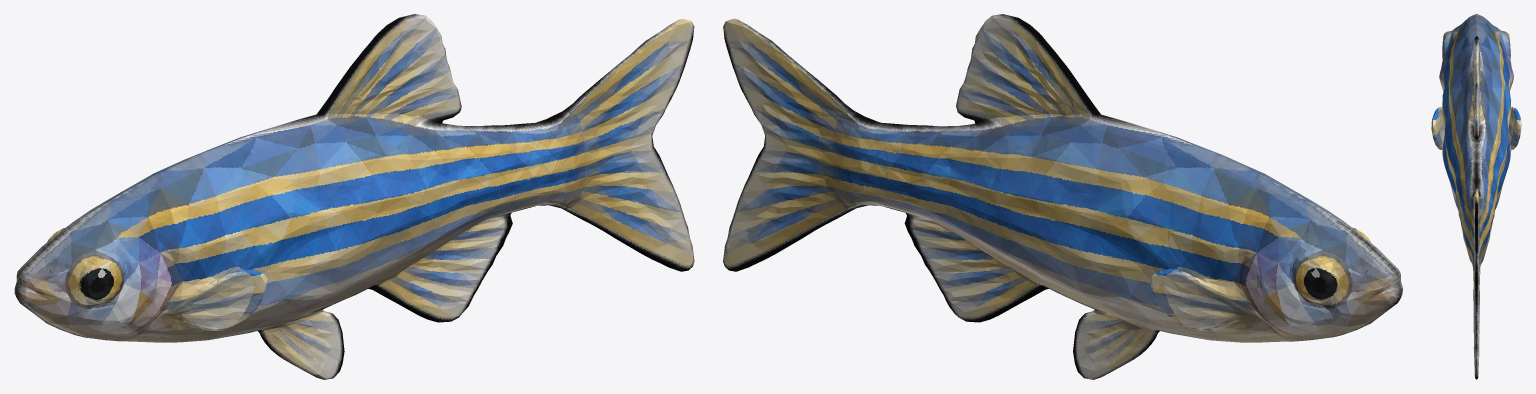
Rendered from zebrafish.glb.
3 renders of one model, left to right at view 1: azimuth 30°, elevation 25°; view 2: azimuth 150°, elevation 25°; view 3: azimuth 270°, elevation 25°, orthographic. The views are drawn at different scales.
Visible parts, largest first — view 1: zebrafish; view 2: zebrafish; view 3: zebrafish.
Part boxes in pixels (x1,y1,x2,y2): zebrafish: [14, 14, 694, 379]; zebrafish: [723, 14, 1402, 379]; zebrafish: [1431, 14, 1521, 379].
Bounding box in the file's own units: 1 × 0.4854 × 0.156.
1 material, 1 textured.
